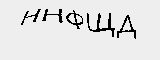Д: (117, 12, 137, 39)
Н: (42, 6, 64, 23), (20, 8, 40, 26)
Ф: (64, 8, 85, 29)
Щ: (84, 12, 116, 37)
